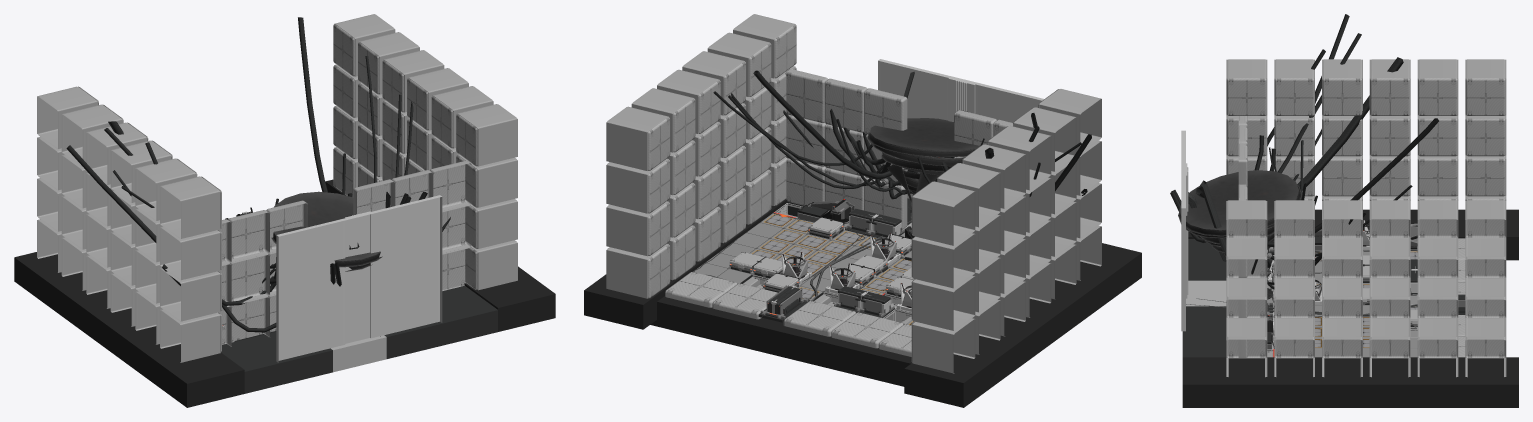
Rendered from TemplateMap.fbx.
The picture shows the model from 3 angles, left to right: view 1: azimuth 30°, elevation 25°; view 2: azimuth 150°, elevation 25°; view 3: azimuth 270°, elevation 25°; orthographic projection. The views are drawn at different scales.
Parts seen in each view (by area): view 1: Combined_Mesh__root:_scene__3_12, Combined_Mesh__root:_scene__5_6, Combined_Mesh__root:_scene__3_34, Combined_Mesh__root:_scene__3_5, Combined_Mesh__root:_scene__3_32, Combined_Mesh__root:_scene__3_37, Combined_Mesh__root:_scene__3_3, Combined_Mesh__root:_scene__5_5, Combined_Mesh__root:_scene__5_4, Combined_Mesh__root:_scene__5_3, Combined_Mesh__root:_scene__5_0, Combined_Mesh__root:_scene__3_6 (+11 smaller); view 2: Combined_Mesh__root:_scene__3_3, Combined_Mesh__root:_scene__5_5, Combined_Mesh__root:_scene__3_34, Combined_Mesh__root:_scene__3_37, Combined_Mesh__root:_scene__3_2, Combined_Mesh__root:_scene__3_12, Combined_Mesh__root:_scene__3_19, Combined_Mesh__root:_scene__3_13, Combined_Mesh__root:_scene__3_42, Combined_Mesh__root:_scene__5_4, Combined_Mesh__root:_scene__5_1, Combined_Mesh__root:_scene__5_0 (+22 smaller); view 3: Combined_Mesh__root:_scene__3_44, Combined_Mesh__root:_scene__3_37, Combined_Mesh__root:_scene__3_13, Combined_Mesh__root:_scene__3_3, Combined_Mesh__root:_scene__3_19, Combined_Mesh__root:_scene__3_42, Combined_Mesh__root:_scene__3_36, Combined_Mesh__root:_scene__3_5, Combined_Mesh__root:_scene__5_5, Combined_Mesh__root:_scene__5_4, Combined_Mesh__root:_scene__5_1, Combined_Mesh__root:_scene__5_0 (+7 smaller).
Boxes of the visible parts, <box> form: Combined_Mesh__root:_scene__3_12: <box>276,195,442,362</box>; Combined_Mesh__root:_scene__5_6: <box>160,176,221,362</box>; Combined_Mesh__root:_scene__3_34: <box>14,252,244,407</box>; Combined_Mesh__root:_scene__3_5: <box>456,104,517,290</box>; Combined_Mesh__root:_scene__3_32: <box>221,285,497,393</box>; Combined_Mesh__root:_scene__3_37: <box>66,17,450,332</box>; Combined_Mesh__root:_scene__3_3: <box>333,14,395,197</box>; Combined_Mesh__root:_scene__5_5: <box>37,86,98,272</box>; Combined_Mesh__root:_scene__5_4: <box>61,104,123,290</box>; Combined_Mesh__root:_scene__5_3: <box>135,158,197,344</box>; Combined_Mesh__root:_scene__5_0: <box>110,140,172,326</box>; Combined_Mesh__root:_scene__3_6: <box>228,210,269,346</box>; Combined_Mesh__root:_scene__3_3: <box>606,106,670,298</box>; Combined_Mesh__root:_scene__5_5: <box>911,181,975,373</box>; Combined_Mesh__root:_scene__3_34: <box>904,243,1141,407</box>; Combined_Mesh__root:_scene__3_37: <box>713,70,1091,219</box>; Combined_Mesh__root:_scene__3_2: <box>650,296,912,386</box>; Combined_Mesh__root:_scene__3_12: <box>878,59,1044,198</box>; Combined_Mesh__root:_scene__3_19: <box>631,88,695,280</box>; Combined_Mesh__root:_scene__3_13: <box>657,69,720,261</box>; Combined_Mesh__root:_scene__3_42: <box>682,51,745,243</box>; Combined_Mesh__root:_scene__5_4: <box>937,163,1000,354</box>; Combined_Mesh__root:_scene__5_1: <box>962,144,1025,336</box>; Combined_Mesh__root:_scene__5_0: <box>987,126,1051,317</box>; Combined_Mesh__root:_scene__3_44: <box>1182,357,1518,407</box>; Combined_Mesh__root:_scene__3_37: <box>1170,14,1438,289</box>; Combined_Mesh__root:_scene__3_13: <box>1369,200,1410,377</box>; Combined_Mesh__root:_scene__3_3: <box>1465,200,1506,377</box>; Combined_Mesh__root:_scene__3_19: <box>1417,200,1458,377</box>; Combined_Mesh__root:_scene__3_42: <box>1322,200,1362,376</box>; Combined_Mesh__root:_scene__3_36: <box>1274,200,1314,376</box>; Combined_Mesh__root:_scene__3_5: <box>1226,200,1267,377</box>; Combined_Mesh__root:_scene__5_5: <box>1465,59,1506,200</box>; Combined_Mesh__root:_scene__5_4: <box>1417,59,1458,200</box>; Combined_Mesh__root:_scene__5_1: <box>1369,59,1410,200</box>; Combined_Mesh__root:_scene__5_0: <box>1322,59,1362,200</box>.
Bounding box in the file's own units: 1757 × 1009 × 1349.
